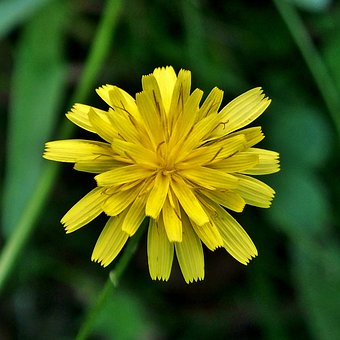dandelion: (45, 75, 290, 272)
